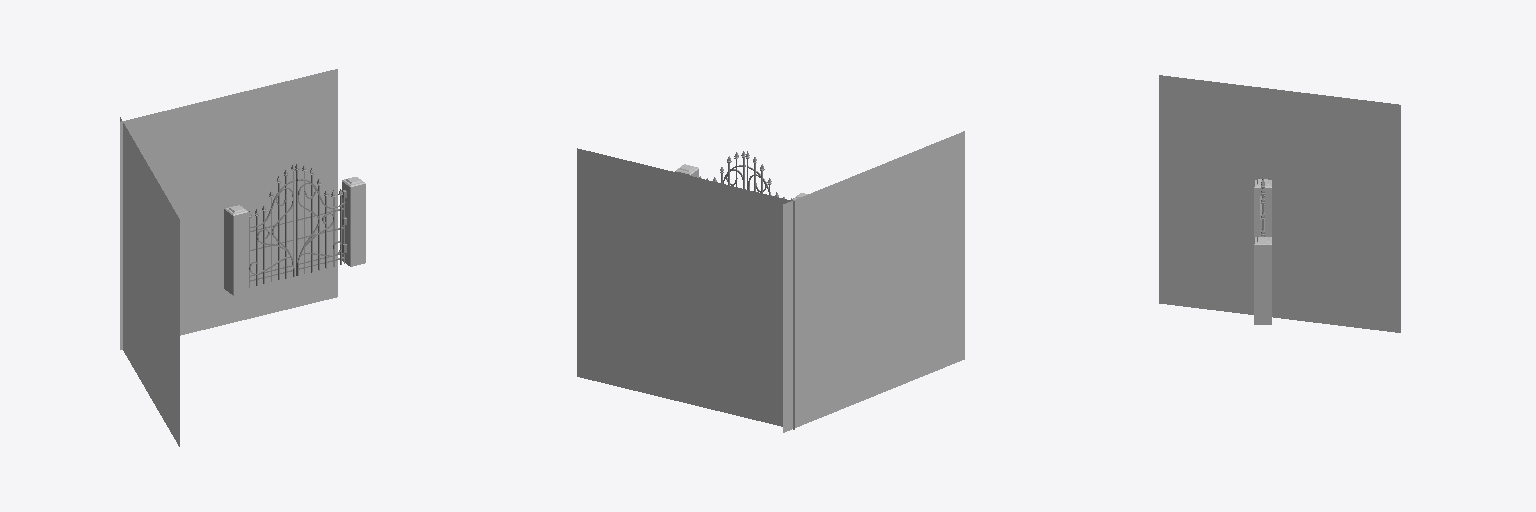
The picture shows the model from 3 angles: view 1: azimuth 30°, elevation 25°; view 2: azimuth 150°, elevation 25°; view 3: azimuth 270°, elevation 25°; orthographic projection.
Parts seen in each view (by area): view 1: Plane.002, kolonny_Cube.000, zabor_Cube.000; view 2: Plane.002, zabor_Cube.000; view 3: Plane.002, kolonny_Cube.000.
Boxes of the visible parts, x1,y1,x2,y2 form: Plane.002: [120, 69, 337, 446]; kolonny_Cube.000: [224, 177, 365, 295]; zabor_Cube.000: [249, 163, 346, 287]; Plane.002: [577, 131, 964, 432]; zabor_Cube.000: [699, 151, 791, 200]; Plane.002: [1159, 75, 1400, 332]; kolonny_Cube.000: [1254, 179, 1271, 324].
Bounding box in the file's own units: 1314 × 1050 × 1008.